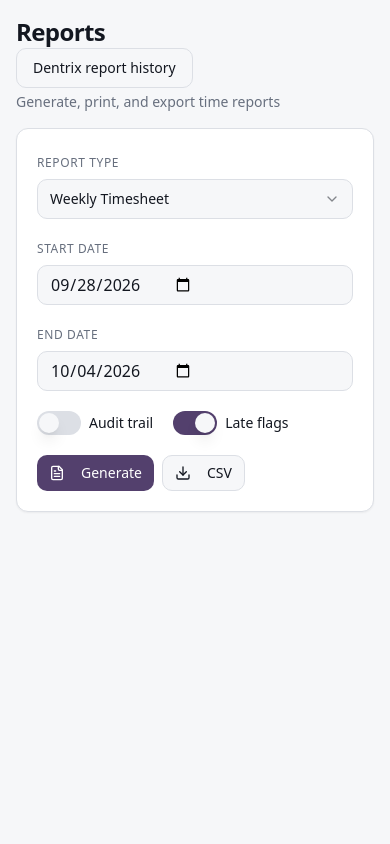
Scenario: payroll report › prints an hour adjustment with its reason and counts it in every total
Click the button "Generate" at (96, 473), box [37,455,154,491]
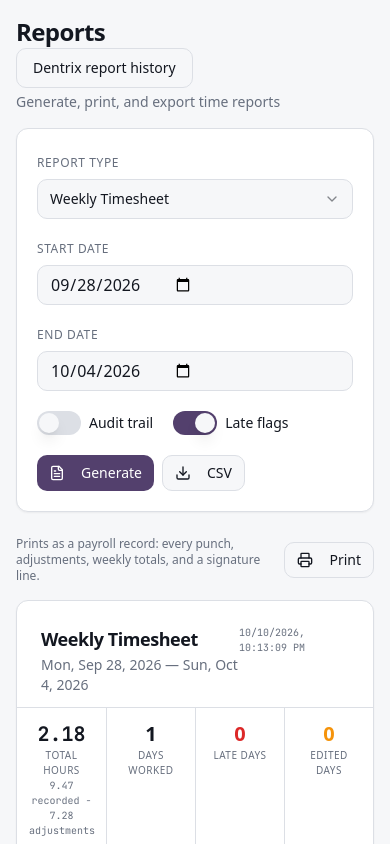
Now the text "9.47 recorded − 7.28 adjustments" is shown, box [29,778,94,838]
